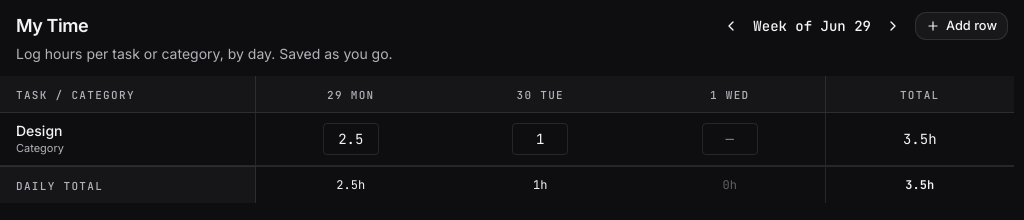
it: TimeCard optimistic totals › updates row Total, daily total, and week total synchronously on commit
Replace the text in the field named "Design, 29 Mon" with "3" at [351, 139], box [323, 123, 379, 155]
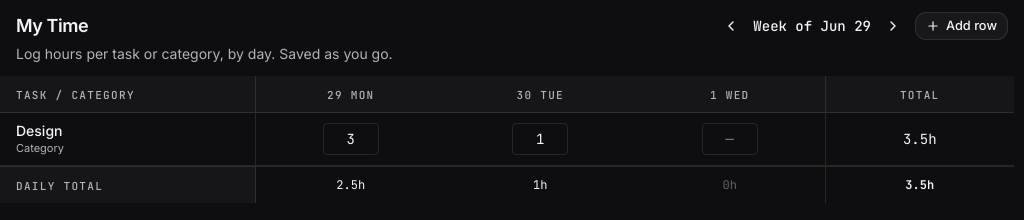
Leave the field named "Design, 29 Mon", box [323, 123, 379, 155]
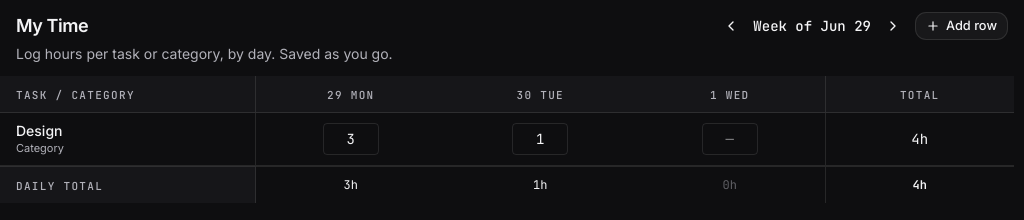
Expected: the text "4h" is shown 2 times, [824, 113, 1014, 166]; [824, 166, 1014, 203]
Expected: the text "3h" is shown, [256, 166, 446, 203]
